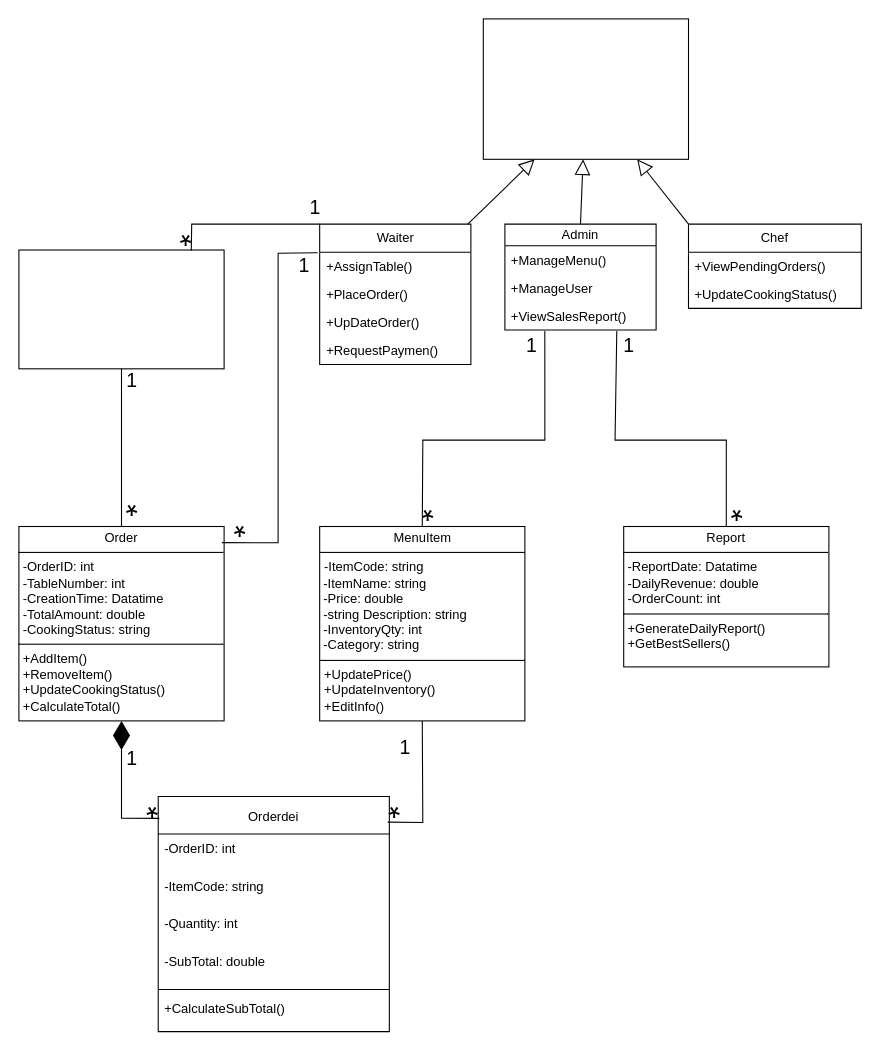
The diagram is 880 pixels wide and 1054 high, and some of its shapes have lost their labels. Each missing label, with the centre of its shape:
"Table -TableNumber: int -Section: string - Status : string +AssignTable()" belongs at (121,309).
"User UserName PassWord Role Login() RecoverPassword()" belongs at (585,88).
